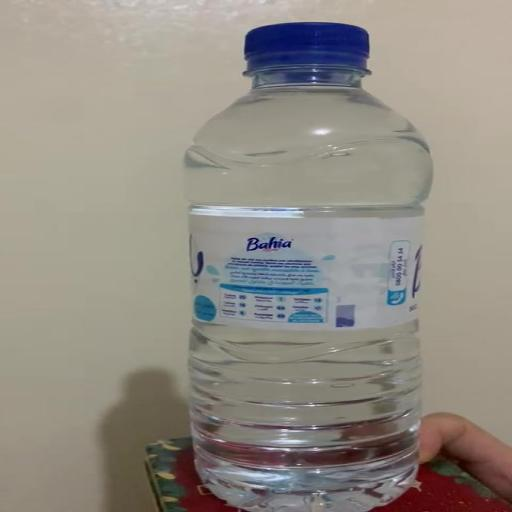bouteille conformite: (186, 23, 431, 511)
